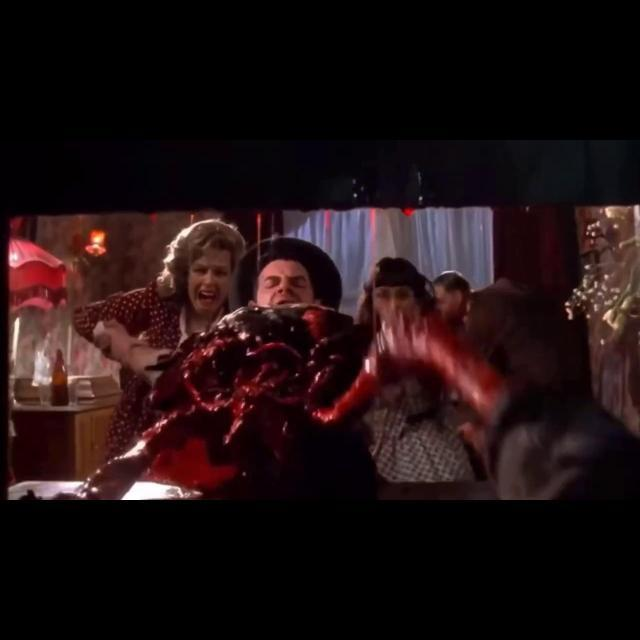blood: (82, 304, 504, 499)
